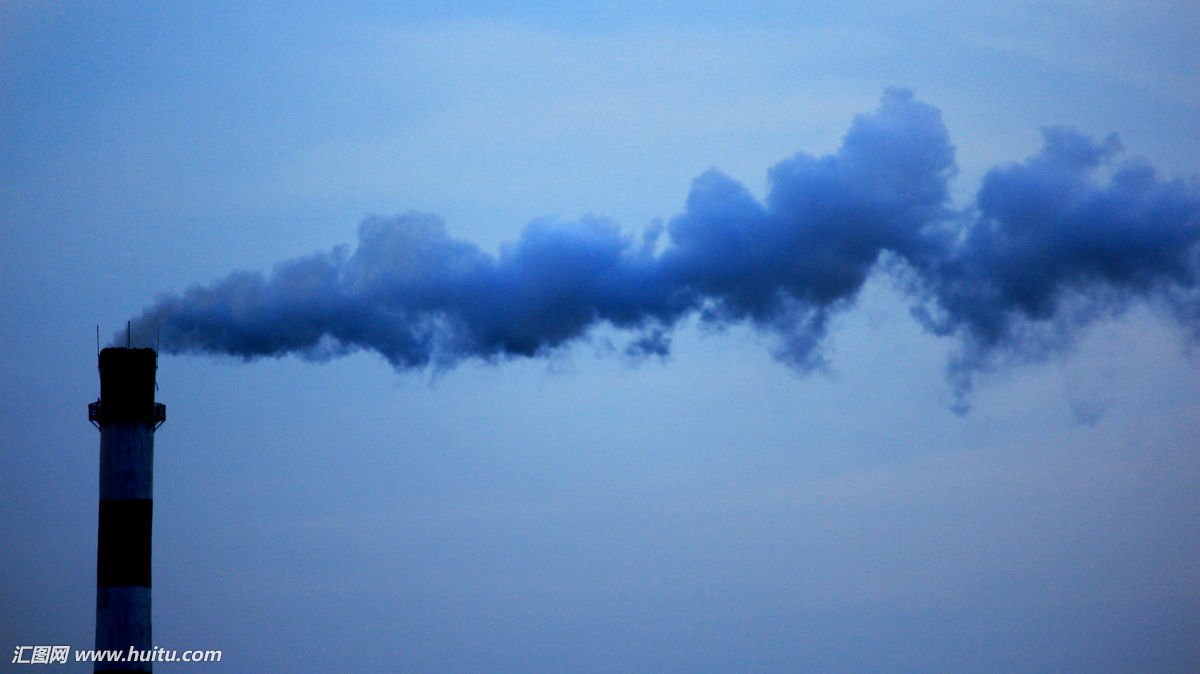dust: (93, 195, 640, 393)
